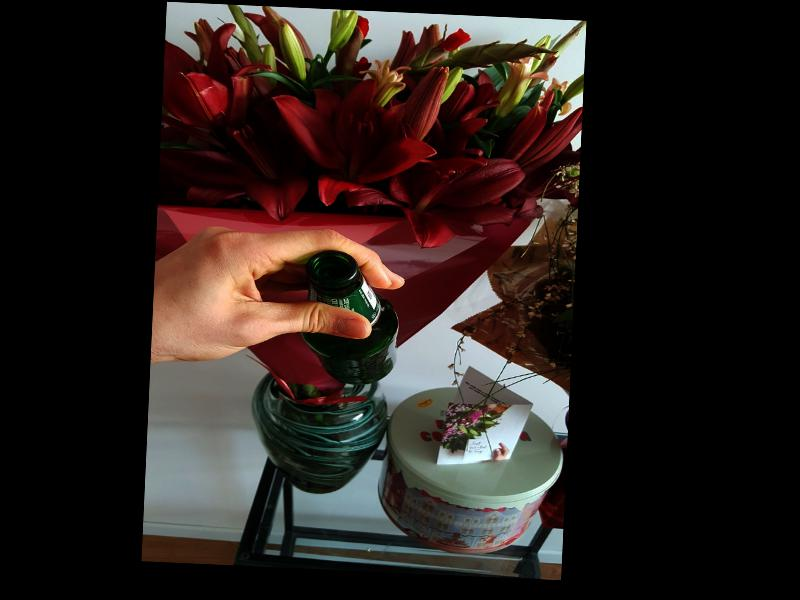Beer: (297, 248, 401, 386)
